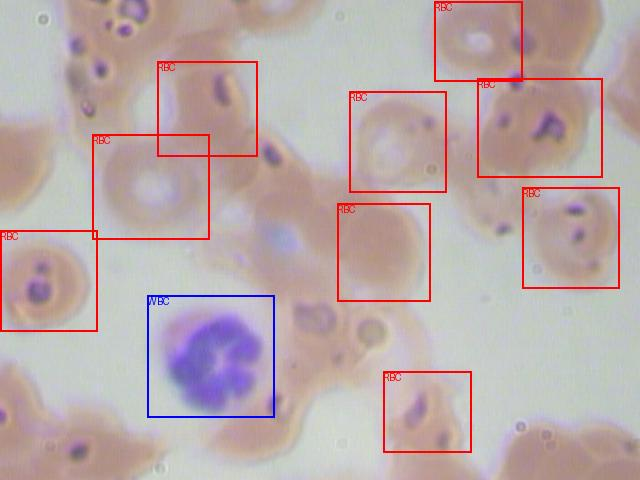RBC: (477, 78, 602, 177), (92, 134, 209, 239), (522, 187, 619, 288), (349, 91, 446, 192), (0, 230, 97, 331), (157, 61, 257, 156), (337, 203, 430, 301), (383, 371, 471, 452), (434, 1, 522, 81)
WBC: (147, 295, 274, 417)
